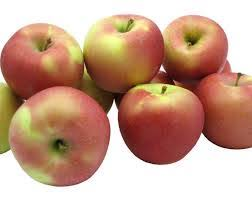apple: (10, 92, 102, 184), (112, 82, 204, 163), (85, 17, 159, 94), (3, 27, 81, 95), (163, 13, 228, 79), (200, 73, 252, 146)
